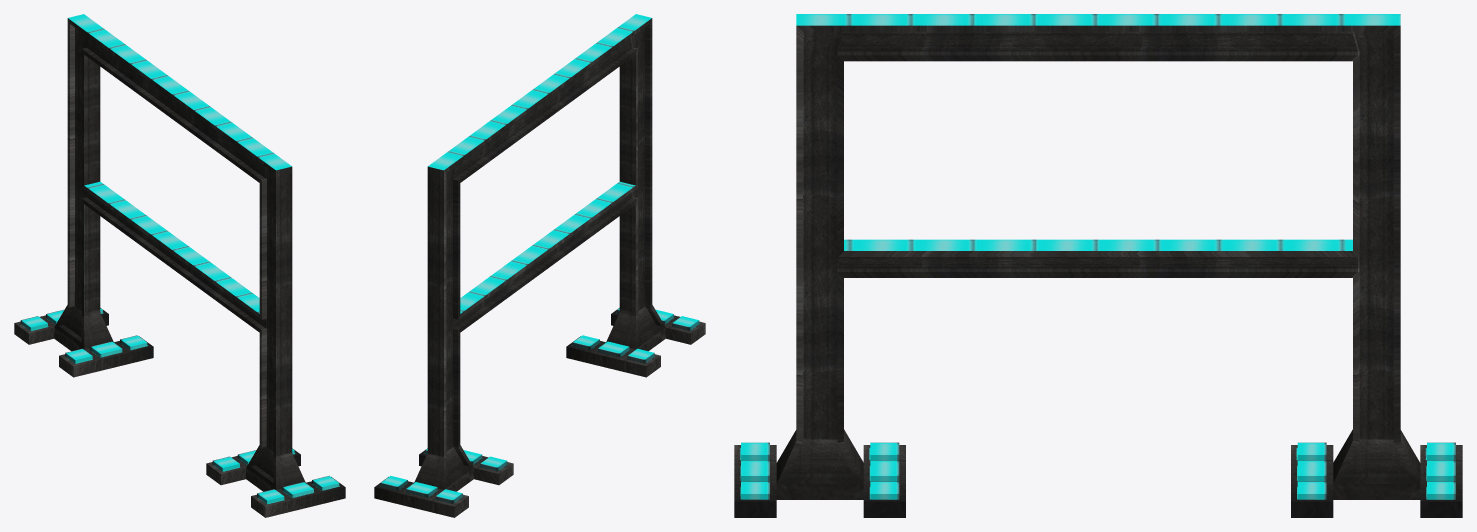
The model's file is grade.FBX.
3 views of the same model, side by side, from view 1: azimuth 30°, elevation 25°; view 2: azimuth 150°, elevation 25°; view 3: azimuth 270°, elevation 25° (orthographic). The views are drawn at different scales.
Parts seen in each view (by area): view 1: grade001; view 2: grade001; view 3: grade001.
Boxes of the visible parts, <box> form: grade001: <box>14,14,345,517</box>; grade001: <box>374,14,705,517</box>; grade001: <box>734,14,1462,517</box>.
Bounding box in the file's own units: 111 × 428 × 601.
1 material, 1 textured.
